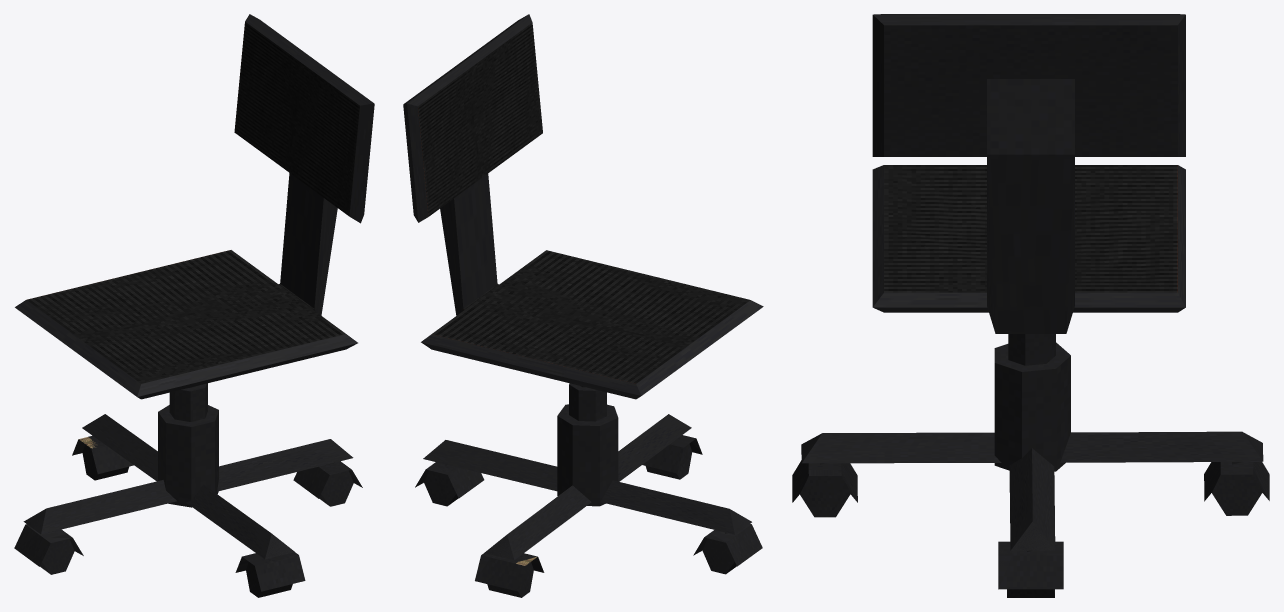
Rendered from chair.glb.
The picture shows the model from 3 angles, left to right: view 1: azimuth 30°, elevation 25°; view 2: azimuth 150°, elevation 25°; view 3: azimuth 270°, elevation 25°; orthographic projection. The views are drawn at different scales.
Visible parts, largest first — view 1: Cube.002; view 2: Cube.002; view 3: Cube.002.
Part boxes in pixels (x1,y1,x2,y2): Cube.002: (14, 14, 374, 597); Cube.002: (403, 14, 763, 597); Cube.002: (792, 14, 1269, 597).
Bounding box in the file's own units: 0.6252 × 0.8199 × 0.6253.
1 material, 1 textured.
